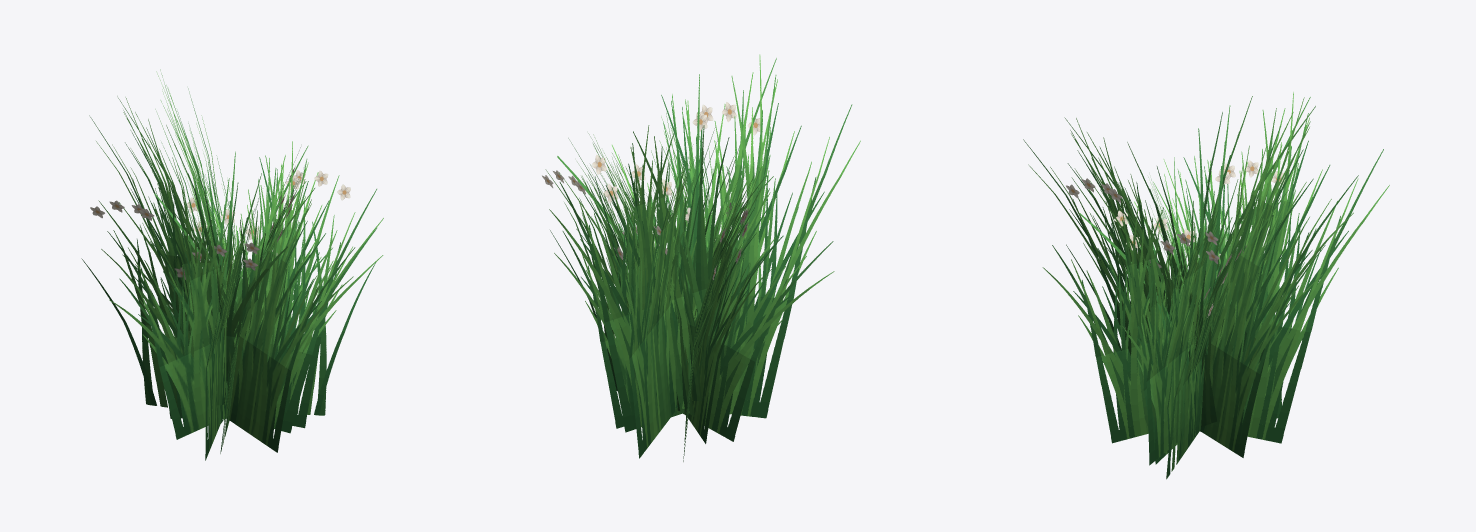
File: erba_a.glb
The picture shows the model from 3 angles, left to right: view 1: azimuth 30°, elevation 25°; view 2: azimuth 150°, elevation 25°; view 3: azimuth 270°, elevation 25°; orthographic projection. The views are drawn at different scales.
Visible parts, largest first — view 1: erba; view 2: erba; view 3: erba.
Boxes of the visible parts, <box> form: erba: <box>81,69,383,460</box>; erba: <box>542,54,860,461</box>; erba: <box>1023,92,1389,479</box>.
Size of the model in its own units: 0.6353 by 0.6239 by 0.7157.
1 material, 1 textured.
